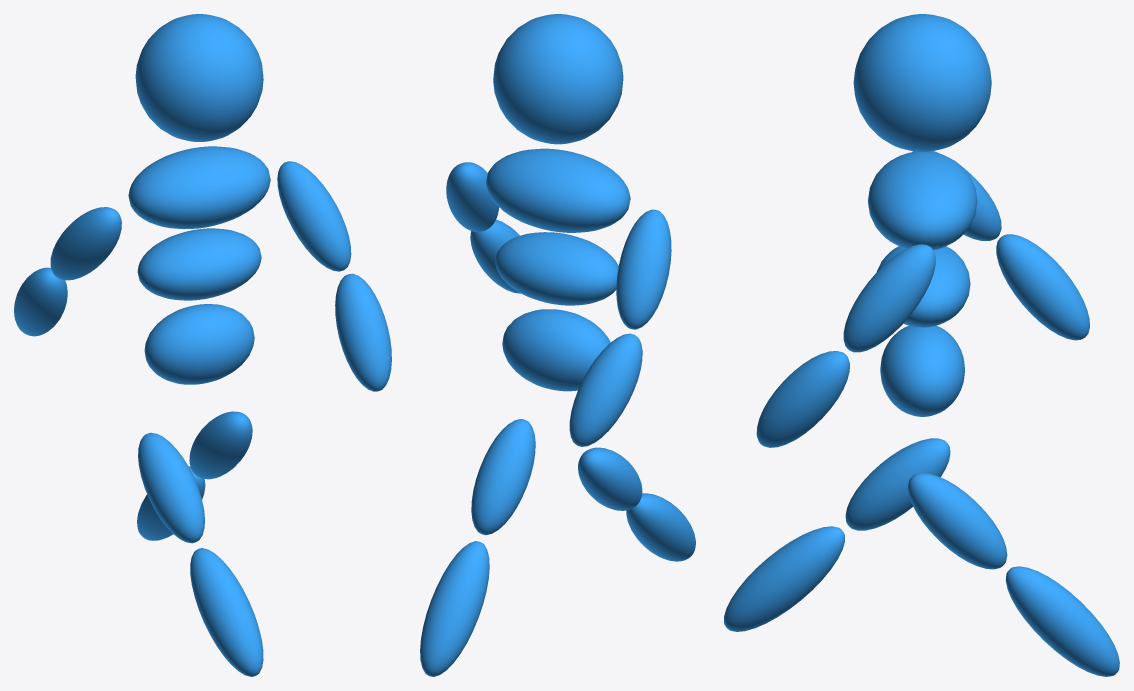
Rendered from player4.obj.
3 views of the same model, side by side, from view 1: azimuth 30°, elevation 25°; view 2: azimuth 150°, elevation 25°; view 3: azimuth 270°, elevation 25° (orthographic). The views are drawn at different scales.
Parts seen in each view (by area): view 1: Sphere.001_Sphere.007; view 2: Sphere.001_Sphere.007; view 3: Sphere.001_Sphere.007.
Part boxes in pixels (x1,y1,x2,y2): Sphere.001_Sphere.007: (14,14,391,676); Sphere.001_Sphere.007: (420,14,695,676); Sphere.001_Sphere.007: (724,14,1119,676).
Bounding box in the file's own units: 2.38 × 5.24 × 2.95.
Materials: 1 (1 with a texture image).
